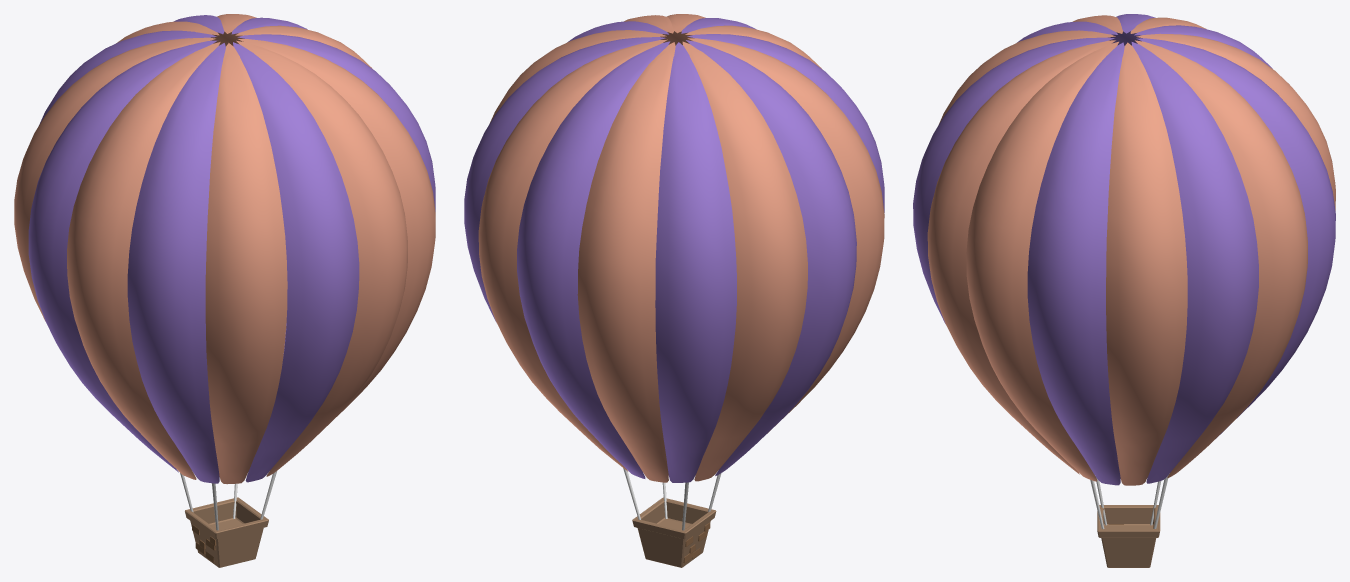
The model's file is balloon_d.glb.
3 renders of one model, left to right at view 1: azimuth 30°, elevation 25°; view 2: azimuth 150°, elevation 25°; view 3: azimuth 270°, elevation 25°, orthographic.
Visible parts, largest first — view 1: 球.003, 立方体; view 2: 球.003, 立方体; view 3: 球.003, 立方体.
Part boxes in pixels (left/top/right/bottom): 球.003: left=14, top=14, right=435, bottom=484; 立方体: left=185, top=497, right=268, bottom=567; 球.003: left=464, top=14, right=884, bottom=482; 立方体: left=632, top=497, right=716, bottom=567; 球.003: left=913, top=14, right=1335, bottom=485; 立方体: left=1097, top=505, right=1160, bottom=567.
Size of the model in its own units: 1.72 by 2.33 by 1.72.
